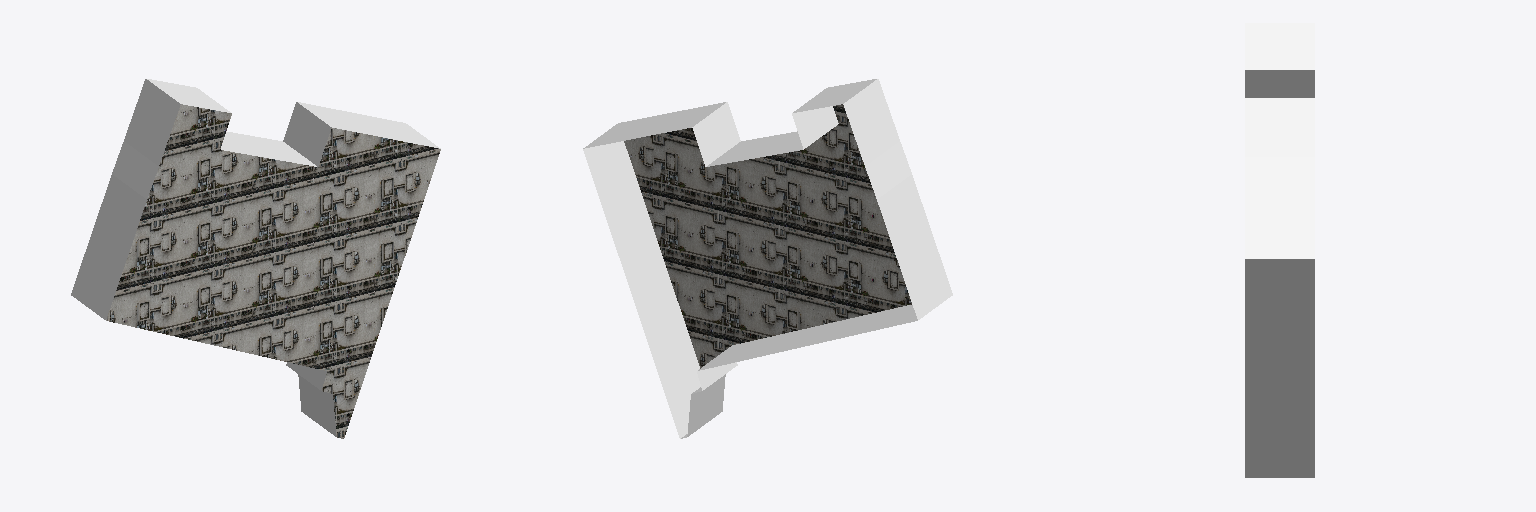
3 views of the same model, side by side, from view 1: azimuth 30°, elevation 25°; view 2: azimuth 150°, elevation 25°; view 3: azimuth 270°, elevation 25° (orthographic).
Parts seen in each view (by area): view 1: Building; view 2: Building; view 3: Building.
Part boxes in pixels (left/top/right/bottom): Building: left=71, top=79, right=440, bottom=438; Building: left=583, top=79, right=952, bottom=438; Building: left=1245, top=23, right=1314, bottom=477.
Bounding box in the file's own units: 65.87 × 70.36 × 12.
2 materials, 1 textured.